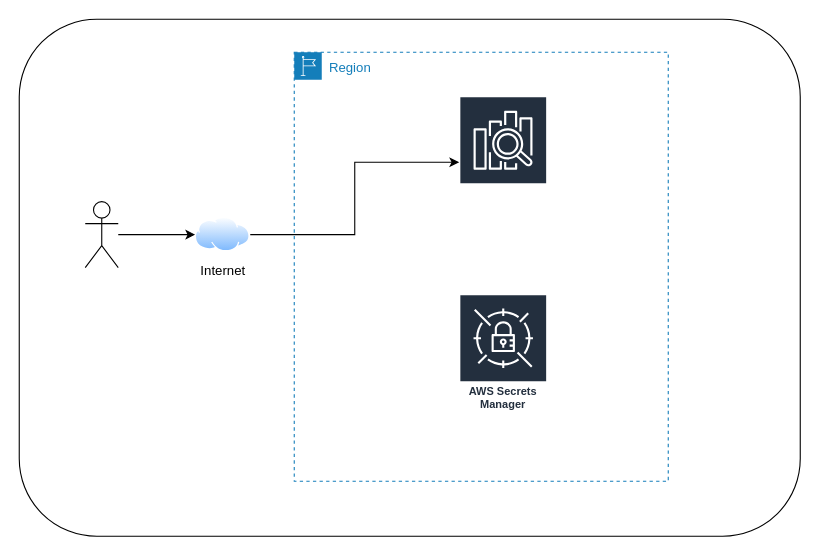
Some shapes in this 820 by 556 pixel diagram are drawn without their labels. Here are the shapes that lost their labels. From the top down, the centre of each, then its label:
point (502, 161): Amazon OpenSearch Service
point (101, 234): User
